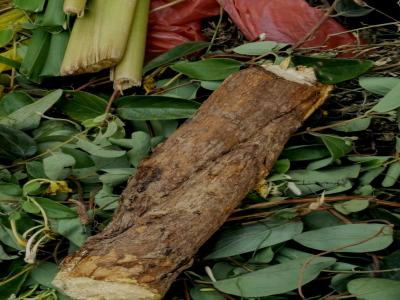Root: (54, 67, 332, 300)
